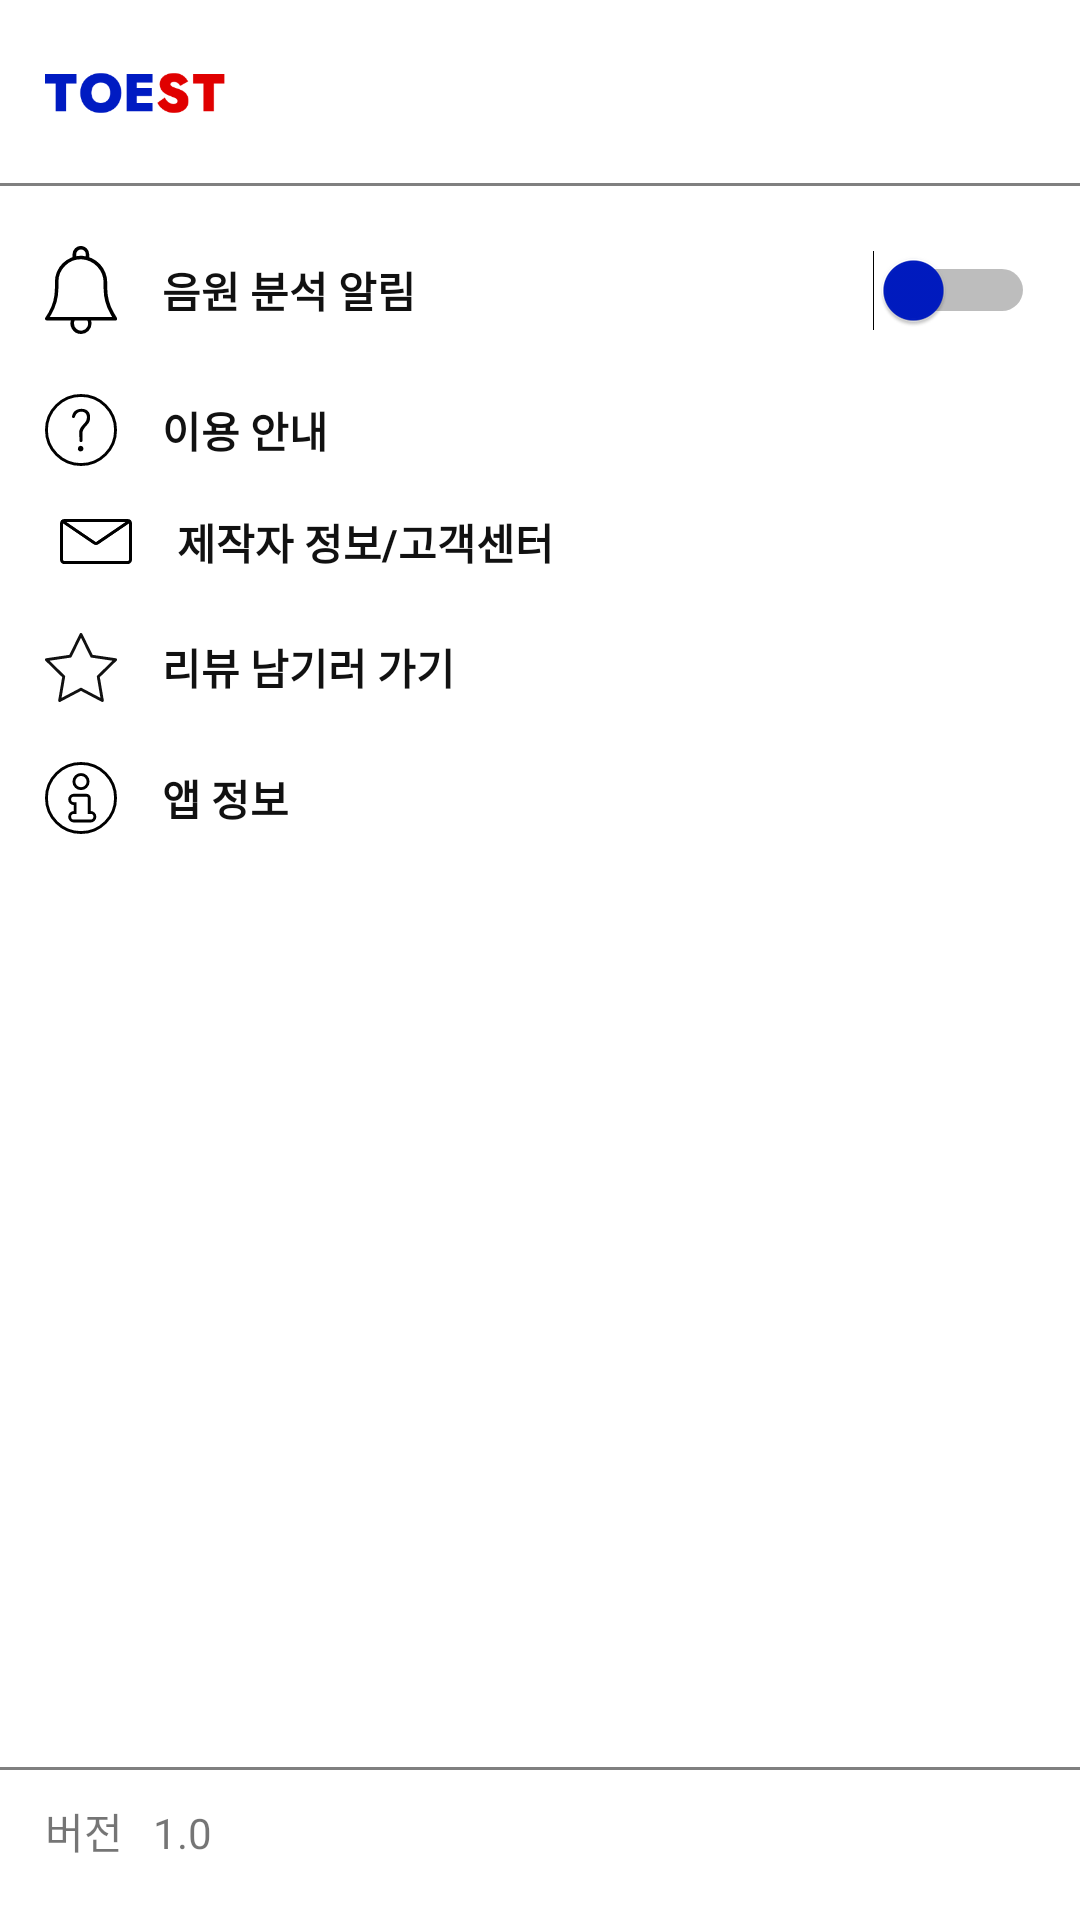

Icons on this 1080px×1920px Android screen, each with its box as (x1, y1, x2, y2):
alarm: (45, 246, 117, 334)
howto: (45, 394, 117, 466)
info: (45, 762, 117, 834)
mail: (60, 519, 132, 564)
star: (45, 633, 117, 702)
